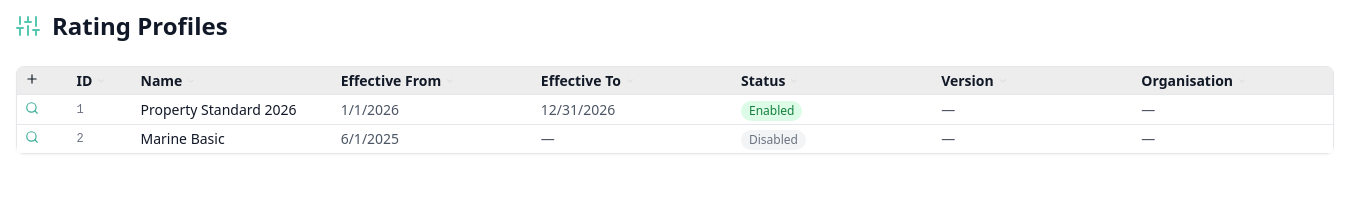
it: T-settings-rating-R28: inline date defaults › T-settings-rating-R28a: defaults Effective To to Effective From + 1 year
Expected: the text "Property Standard 2026" is shown, [132,95,333,124]
Click the button named "add schedule". click: click(32, 79)
box: [25,72,39,86]
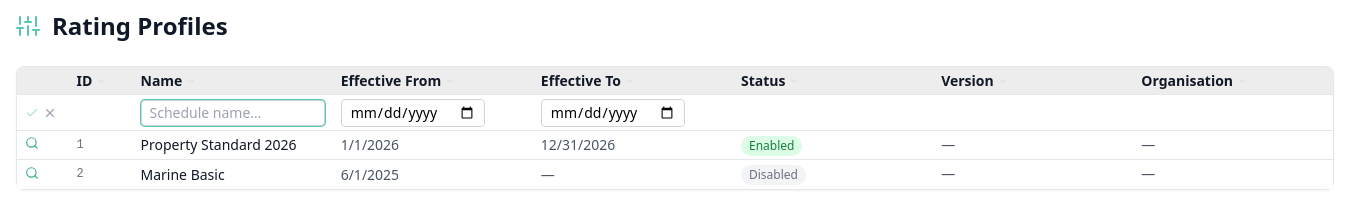
Type "2025-07-23" into the date field named "effective from". click: (413, 113)
box: [341,99,485,127]
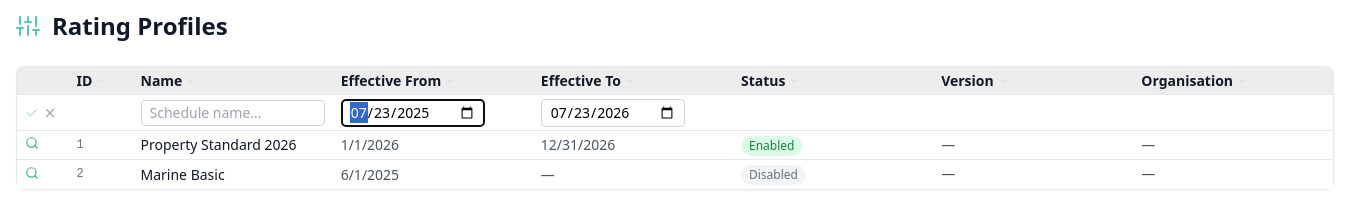
Result: the date field named "effective to" holds "2026-07-23" at [541,99,685,127]
